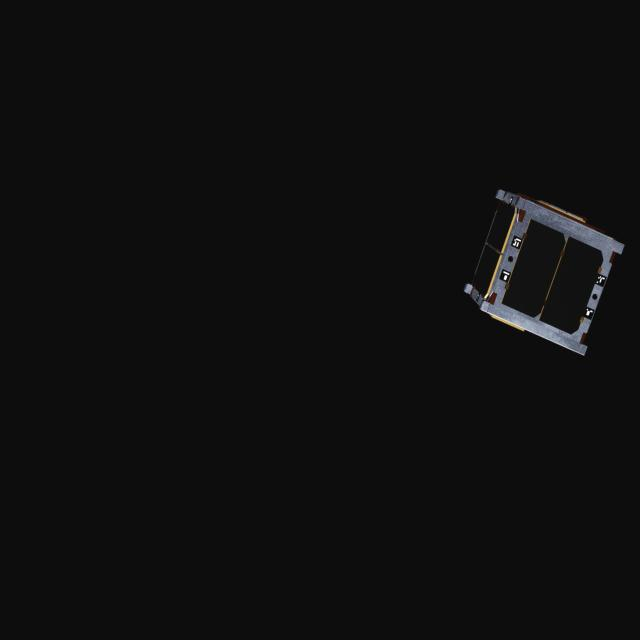medium_debris: (444, 184, 632, 358)
